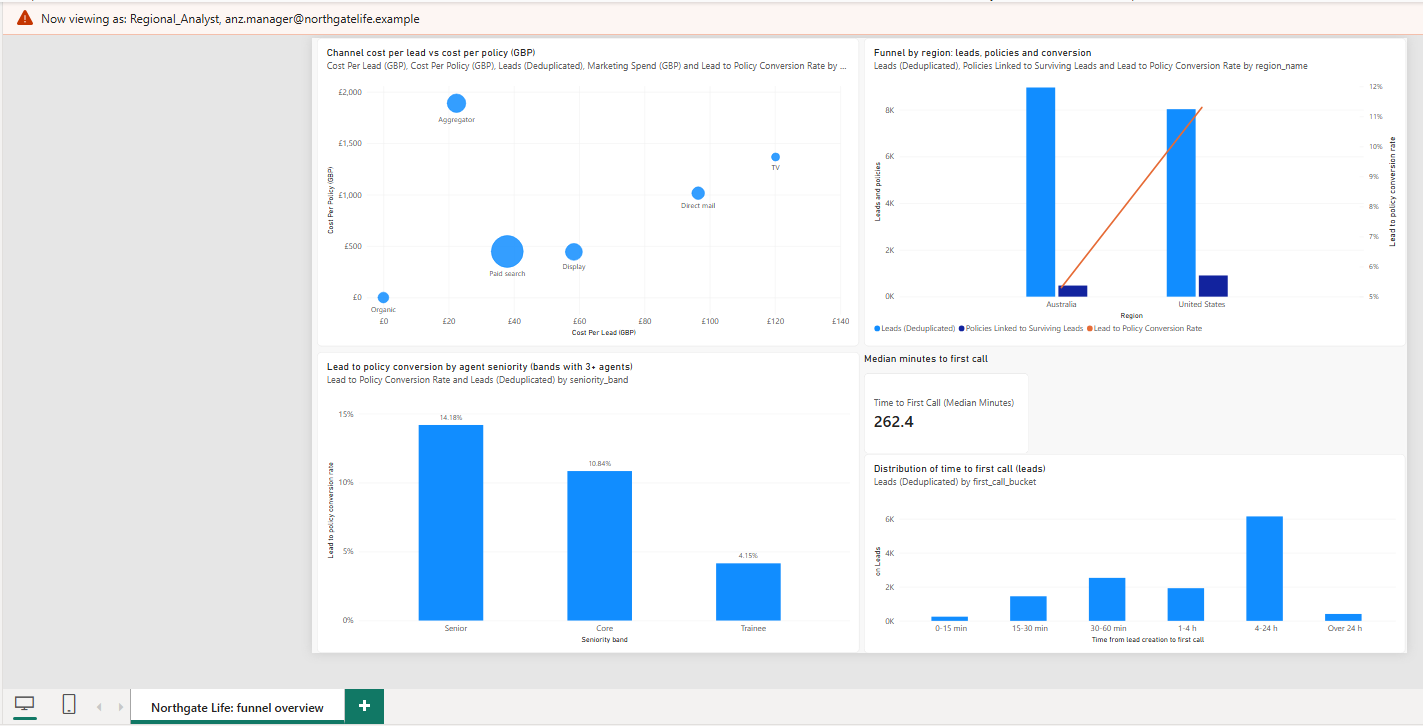

The page's visual inventory and layout, read from the dashboard file:
{"tool":"powerbi","page":{"name":"Northgate Life: funnel overview","canvas":[1920,1080],"ordinal":0},"visuals":[{"type":"scatterChart","title":"Channel cost per lead vs cost per policy (GBP)","fields":{"Category":["dim_channel.channel_name"],"Size":["Key Measures.Leads (Deduplicated)"],"X":["Key Measures.Cost Per Lead (GBP)"],"Y":["Key Measures.Cost Per Policy (GBP)"]},"box":[9.4,0,951.1,540.8],"z":0},{"type":"lineClusteredColumnComboChart","title":"Funnel by region: leads, policies and conversion","fields":{"Category":["dim_region.region_name"],"Y":["Key Measures.Leads (Deduplicated)","Key Measures.Policies Linked to Surviving Leads"],"Y2":["Key Measures.Lead to Policy Conversion Rate"]},"box":[968.4,0,951.1,540.8],"z":1000},{"type":"clusteredColumnChart","title":"Lead to policy conversion by agent seniority (bands with 3+ agents)","fields":{"Category":["dim_agent_seniority.seniority_band"],"Y":["Key Measures.Lead to Policy Conversion Rate"]},"box":[8.8,551.1,952.1,528.1],"z":2000},{"type":"clusteredColumnChart","title":"Distribution of time to first call (leads)","fields":{"Category":["fact_lead_funnel.first_call_bucket"],"Y":["Key Measures.Leads (Deduplicated)"]},"box":[967.9,729.5,950.3,349.7],"z":3000},{"type":"cardVisual","title":"Median minutes to first call","fields":{"Data":["Key Measures.Time to First Call (Median Minutes)"]},"box":[967.9,551.1,289.7,178.4],"z":4000}]}

Visuals, with their boxes on the page's 1920x1080 design canvas (x1, y1, x2, y2). These are canvas units, not pixel positions in the 1423x726 screenshot, which may show the page scaled, cropped or inside an application window:
"Channel cost per lead vs cost per policy (GBP)" scatterChart: 9 0 960 541
"Funnel by region: leads, policies and conversion" lineClusteredColumnComboChart: 968 0 1920 541
"Lead to policy conversion by agent seniority (bands with 3+ agents)" clusteredColumnChart: 9 551 961 1079
"Distribution of time to first call (leads)" clusteredColumnChart: 968 730 1918 1079
"Median minutes to first call" cardVisual: 968 551 1258 730
